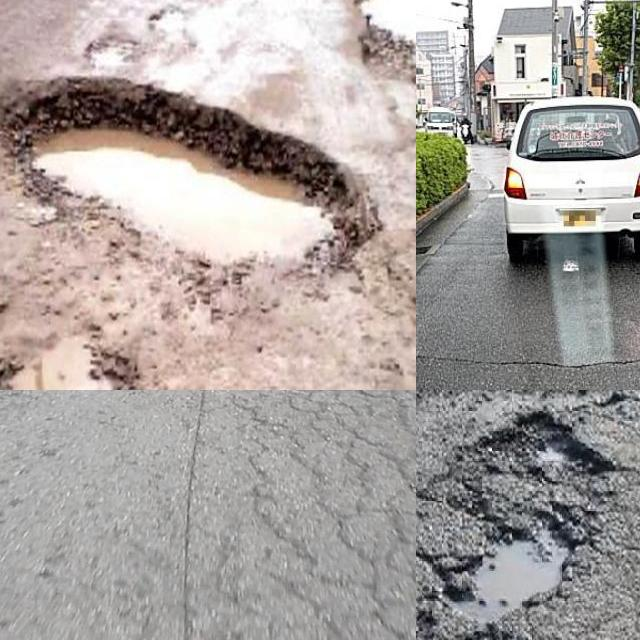Lubang: (13, 73, 363, 276), (416, 428, 609, 640), (0, 338, 135, 390)
Melintang: (416, 340, 640, 381)
Retak Buaya: (243, 390, 416, 640)
